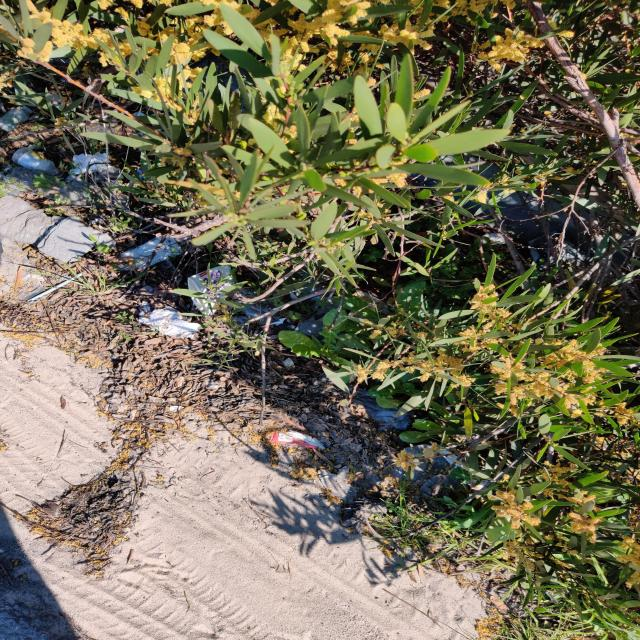litter: (188, 263, 238, 320), (119, 232, 185, 272), (135, 307, 205, 339), (12, 146, 65, 178), (70, 152, 115, 176), (269, 429, 322, 449)
